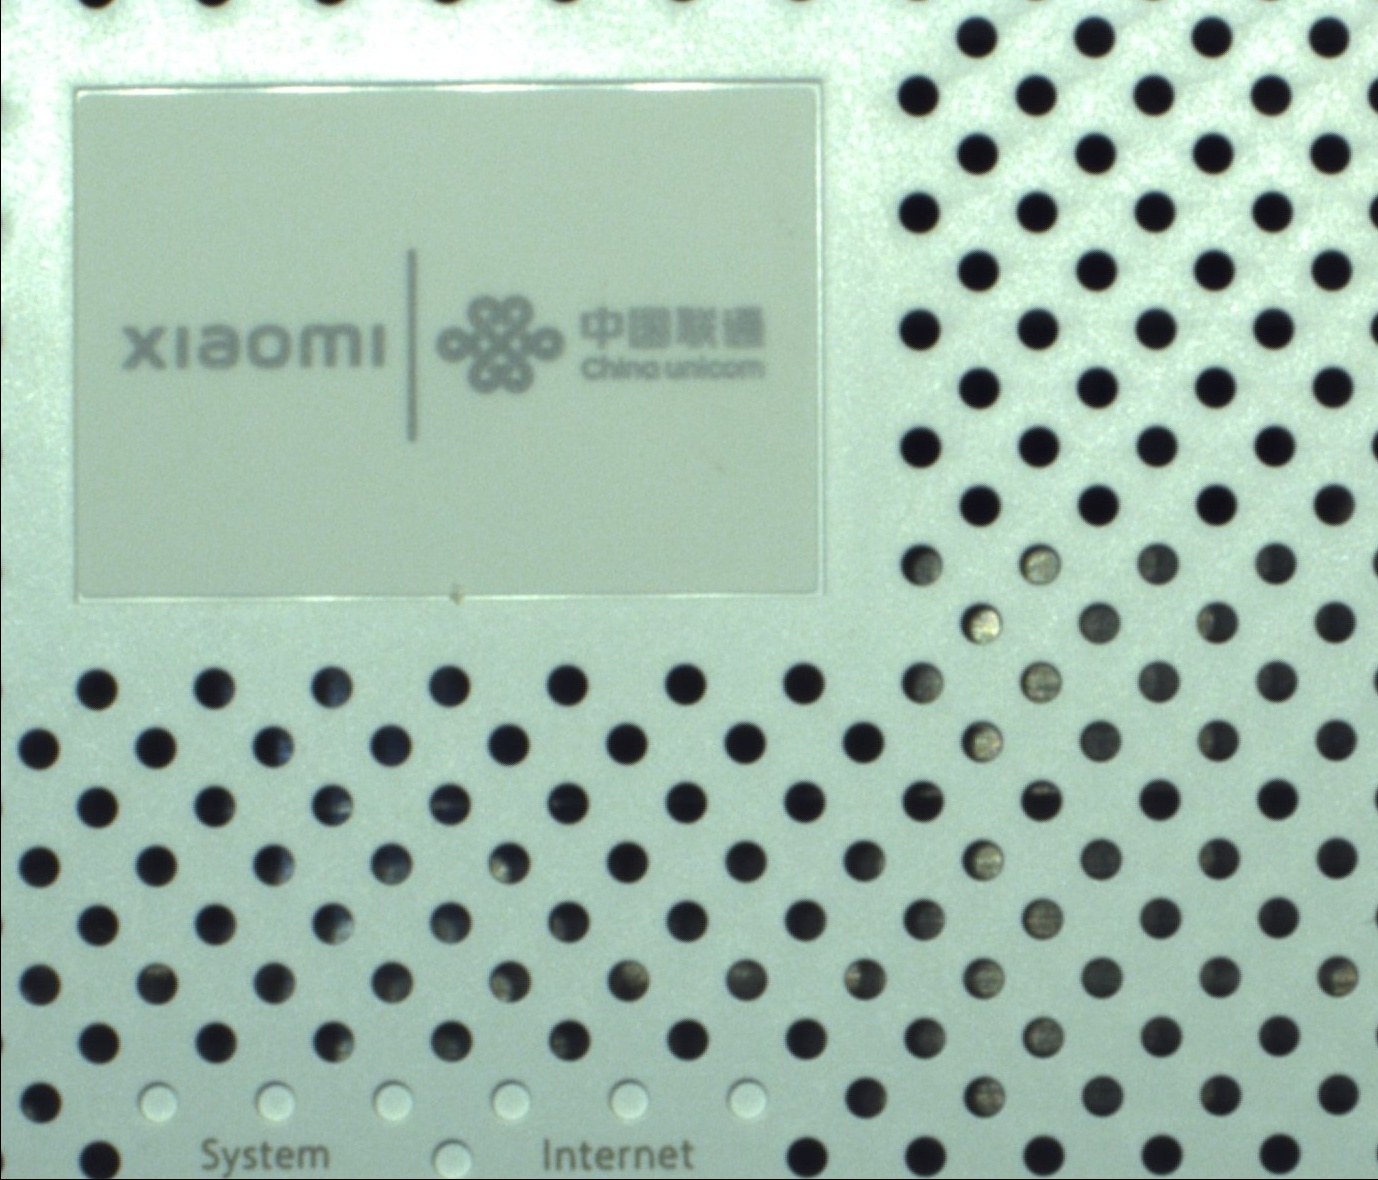MAC_NewUnicom: (100, 246, 768, 442)
